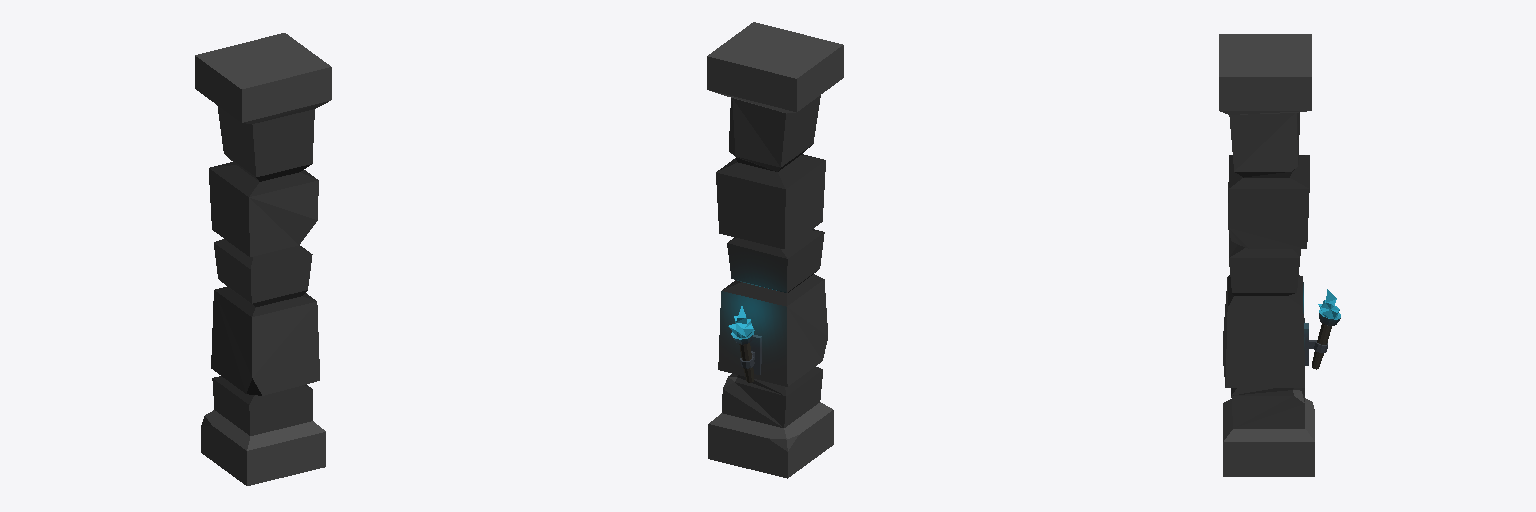
3 renders of one model, left to right at view 1: azimuth 30°, elevation 25°; view 2: azimuth 150°, elevation 25°; view 3: azimuth 270°, elevation 25°, orthographic.
Visible parts, largest first — view 1: Pillarv2StoneWithBTorch:StonePillarWithTorch; view 2: Pillarv2StoneWithBTorch:StonePillarWithTorch; view 3: Pillarv2StoneWithBTorch:StonePillarWithTorch.
Boxes of the visible parts, <box> form: Pillarv2StoneWithBTorch:StonePillarWithTorch: <box>195,33,331,485</box>; Pillarv2StoneWithBTorch:StonePillarWithTorch: <box>707,22,843,478</box>; Pillarv2StoneWithBTorch:StonePillarWithTorch: <box>1219,34,1340,476</box>.
Bounding box in the file's own units: 5.98 × 25.45 × 7.06.
Materials: 1 (1 with a texture image).